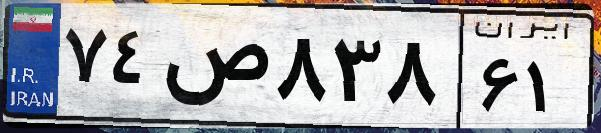1: (525, 38, 570, 115)
3: (330, 28, 385, 110)
4: (110, 28, 158, 98)
6: (475, 38, 525, 113)
7: (57, 26, 110, 100)
8: (270, 28, 330, 110), (385, 28, 445, 110)
ص: (158, 20, 270, 120)
